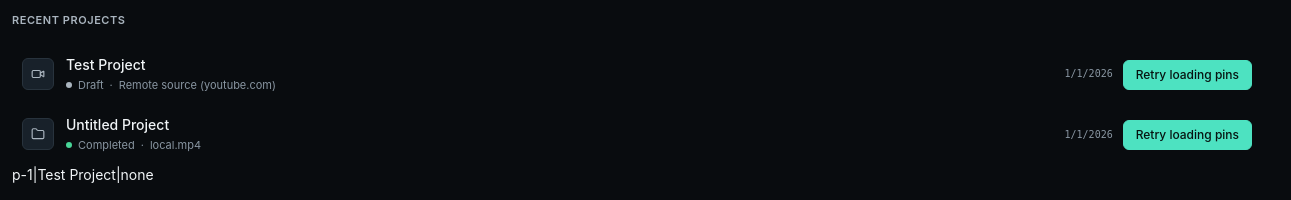
Test: ProjectList › publishes successful rename without writing preferences
The width and height of the screenshot is (1291, 200).
Check: the text "Test Project" is shown, box [66, 56, 146, 72]
Right-click the button with aria-label "Open Test Project" at (38, 74), box [12, 44, 1123, 103]
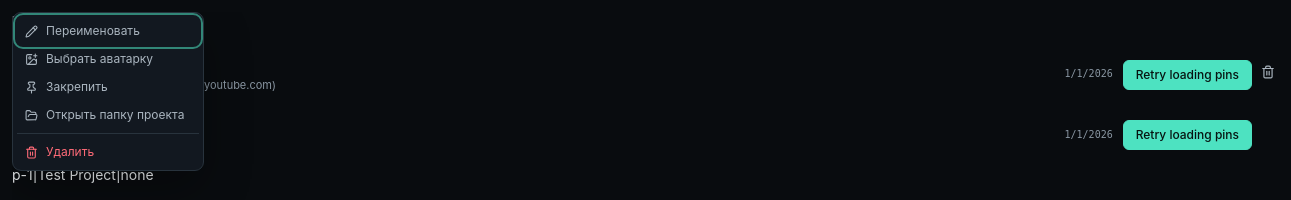
Click the menu item "Переименовать" at (108, 31), box [17, 17, 199, 45]
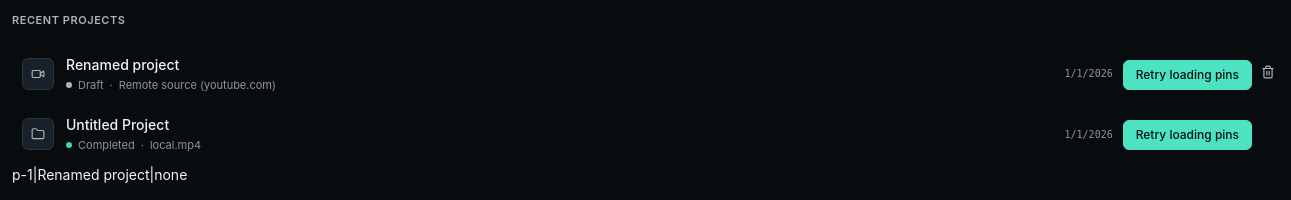
Check: the text "Renamed project" is shown, box [66, 56, 179, 72]
Check: the text with test id "context-state" reads "p-1|Renamed project|none", box [12, 166, 33, 182]
